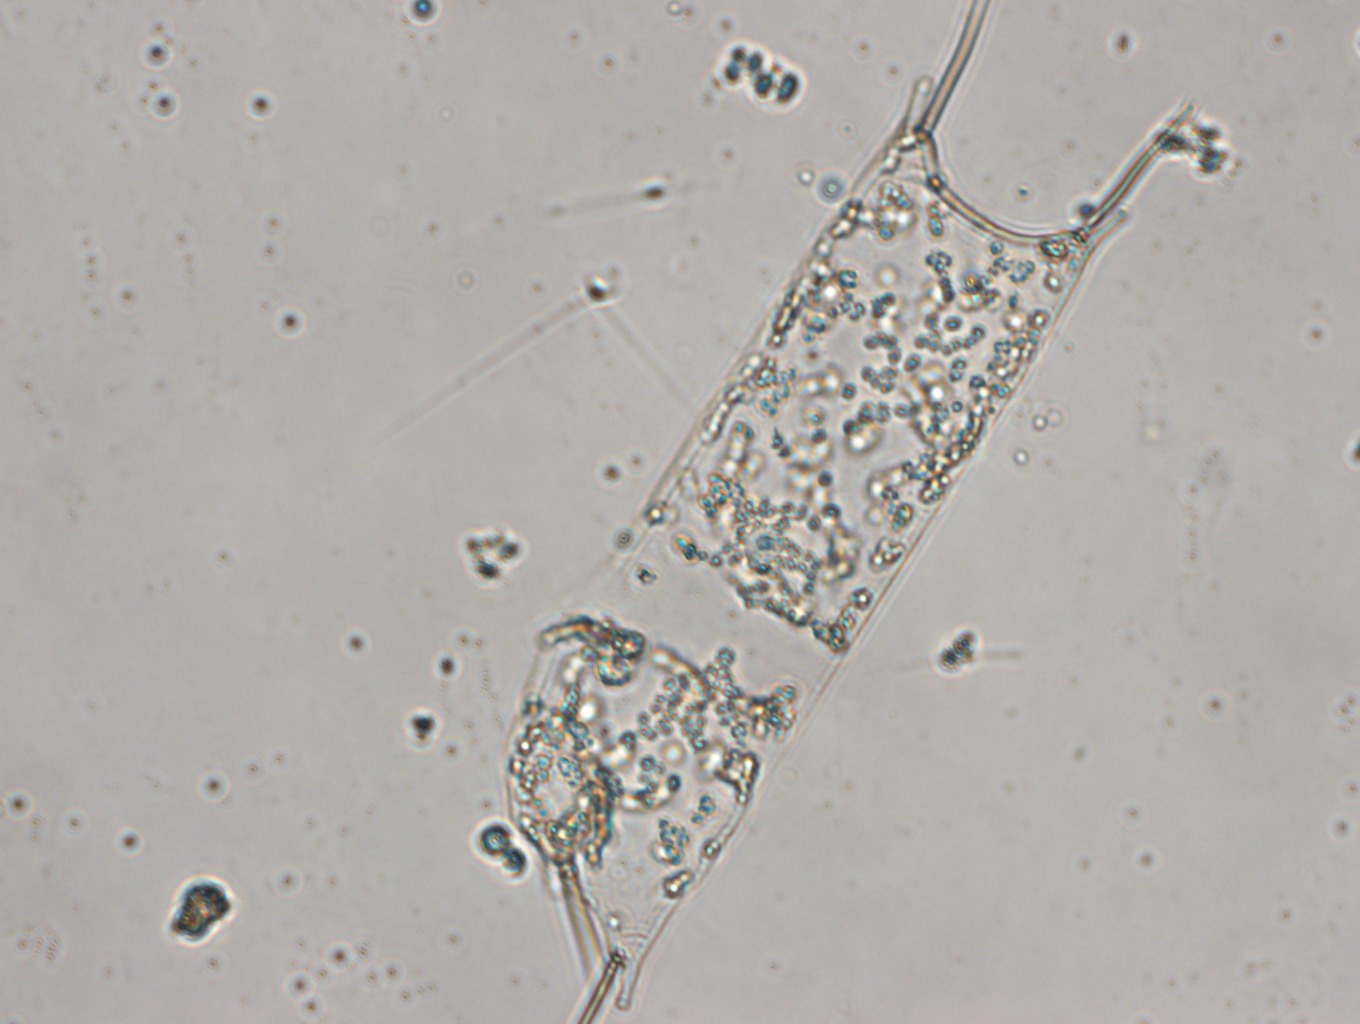biddulphia: (490, 1, 1191, 1000)
